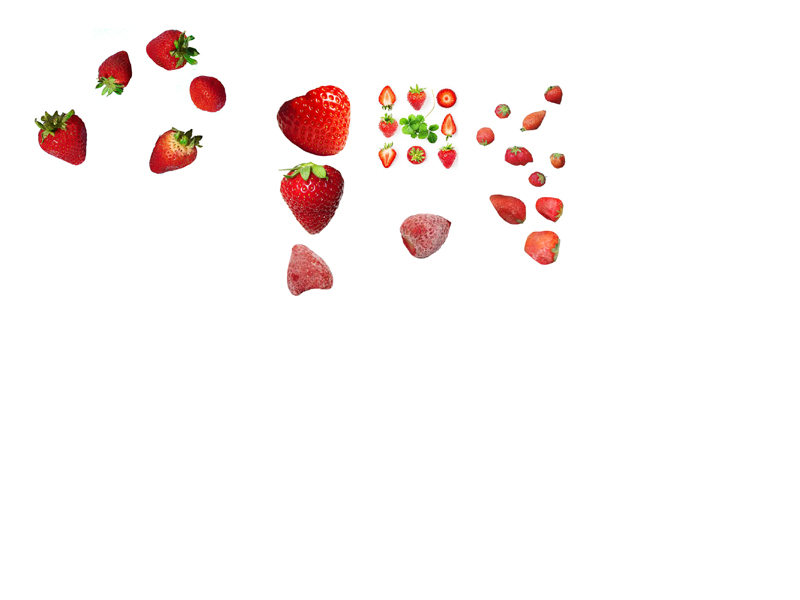strawberry: (274, 82, 357, 157), (279, 159, 347, 234), (33, 101, 94, 168), (394, 204, 461, 263), (279, 239, 338, 304), (146, 125, 207, 179), (142, 24, 198, 71), (95, 44, 133, 99), (183, 74, 231, 114), (483, 190, 531, 225), (523, 226, 562, 268), (533, 194, 566, 224), (502, 142, 536, 167), (372, 80, 400, 110), (521, 106, 547, 132), (373, 141, 397, 169), (404, 84, 428, 112), (408, 145, 430, 174), (527, 164, 547, 193), (543, 83, 567, 105), (437, 84, 457, 110), (494, 98, 515, 120), (477, 121, 494, 148), (547, 151, 566, 167)
